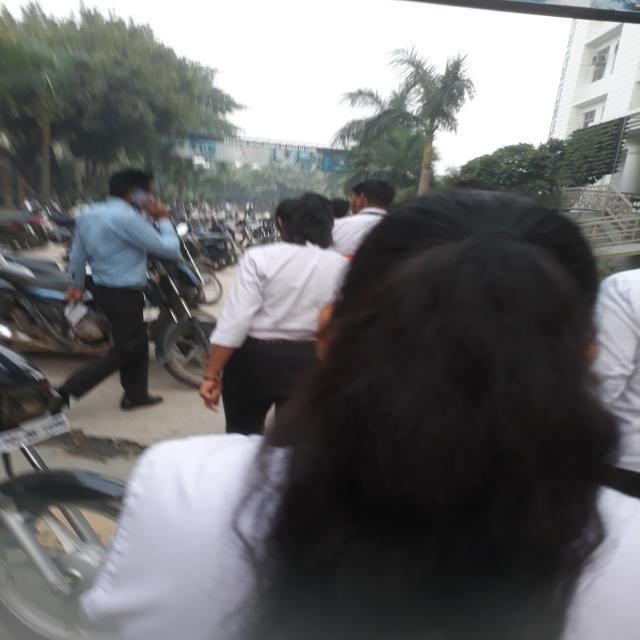unsafe: (199, 183, 334, 441), (73, 161, 167, 411)
